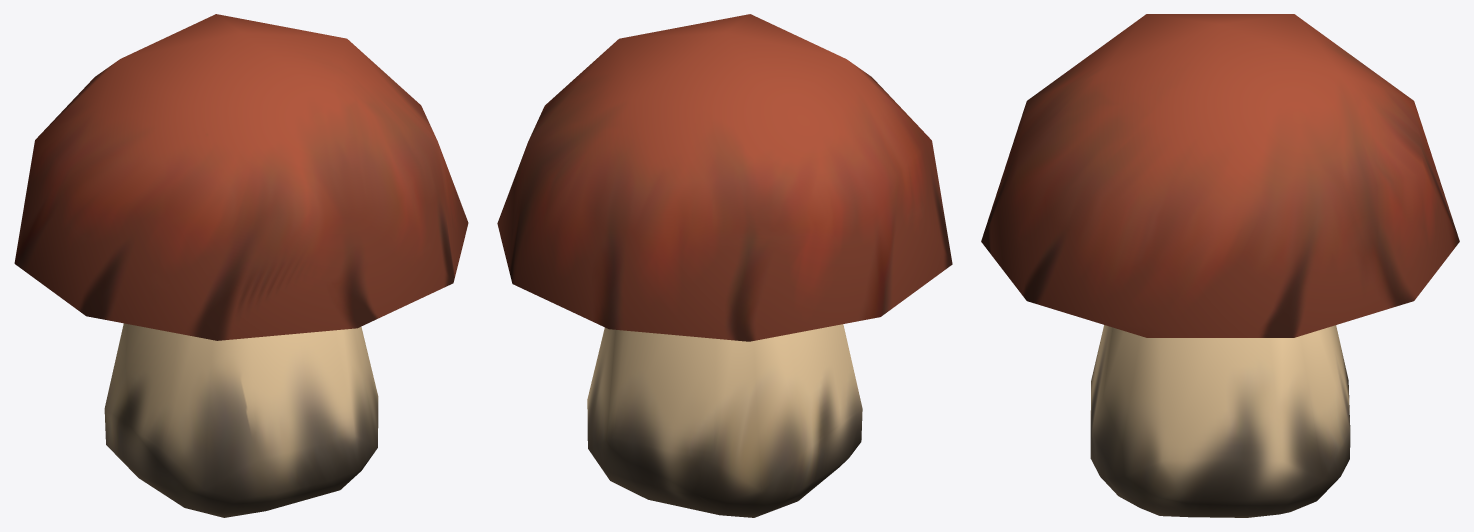
The model's file is White_Mushroom.fbx.
3 renders of one model, left to right at view 1: azimuth 30°, elevation 25°; view 2: azimuth 150°, elevation 25°; view 3: azimuth 270°, elevation 25°, orthographic. The views are drawn at different scales.
Visible parts, largest first — view 1: WhiteMushroom; view 2: WhiteMushroom; view 3: WhiteMushroom.
Part boxes in pixels (<box>): WhiteMushroom: <box>14,14,468,517</box>; WhiteMushroom: <box>497,14,952,517</box>; WhiteMushroom: <box>981,14,1459,517</box>.
Bounding box in the file's own units: 0.2896 × 0.3281 × 0.3045.
1 material, 1 textured.
